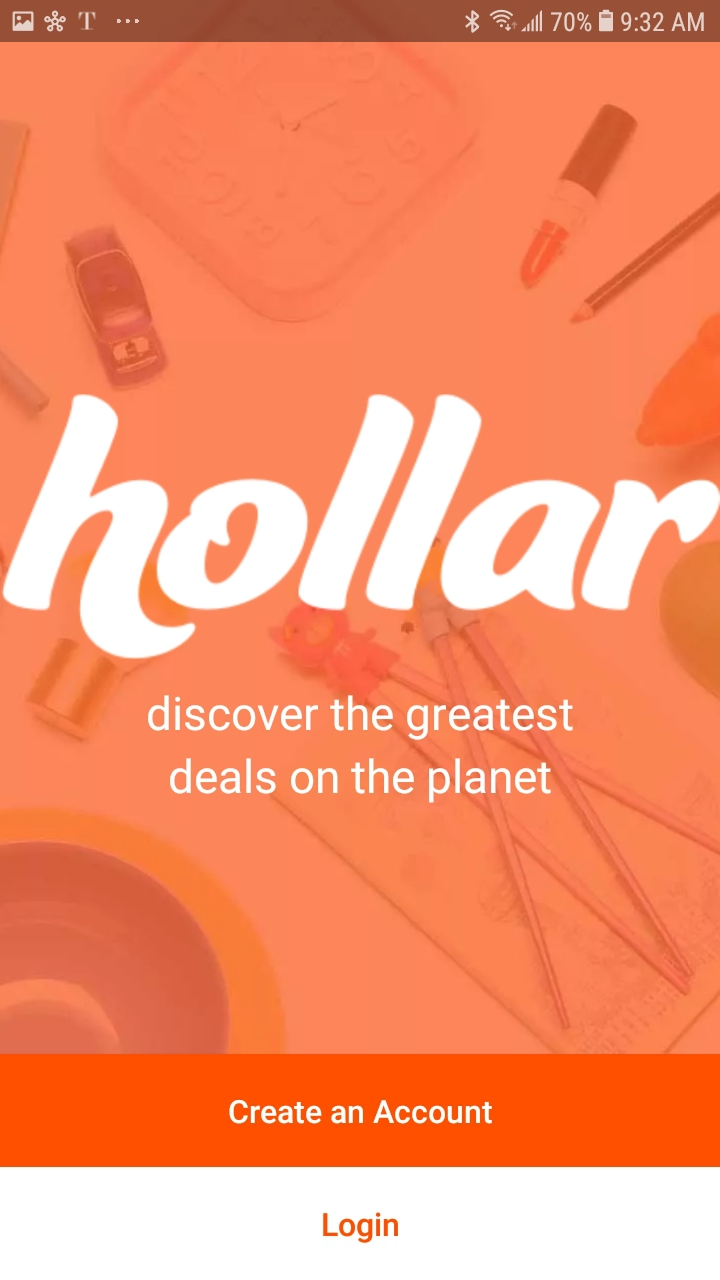BackgroundImage: (1, 43, 720, 1054)
Image: (5, 394, 720, 660)
Text: (147, 695, 574, 804)
TextButton: (1, 1054, 720, 1167), (1, 1167, 720, 1280)
UpperTaskBar: (1, 1, 720, 43)
